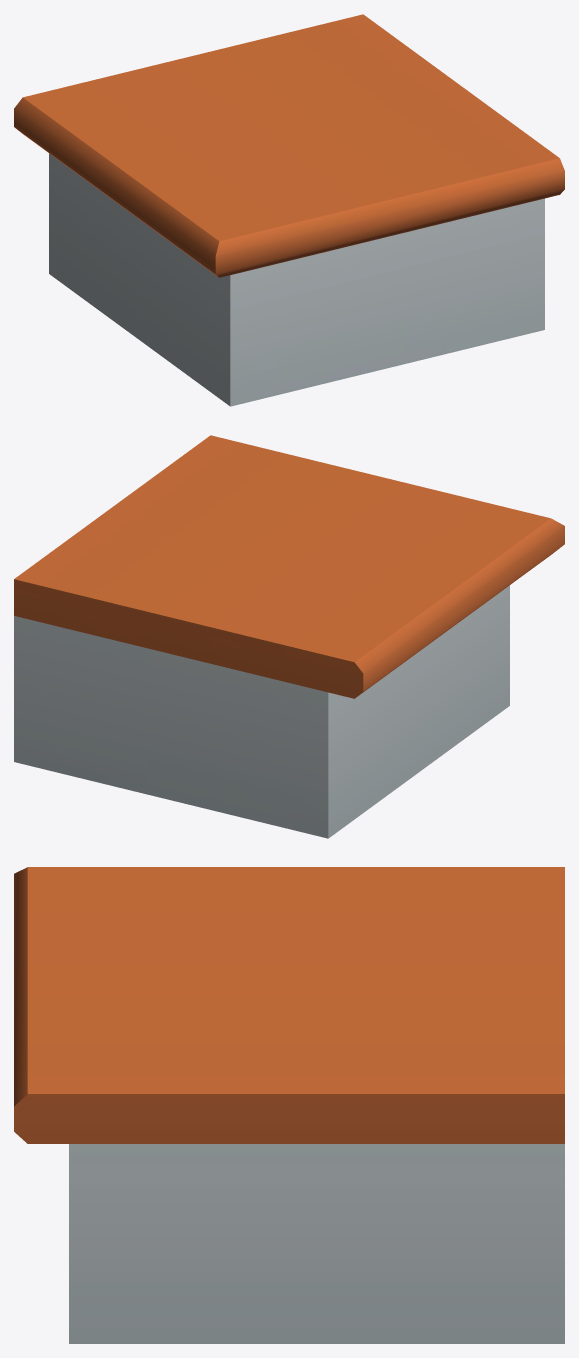
Rendered from kitchencounter-outercorner.glb.
3 views of the same model, one above another, from view 1: azimuth 30°, elevation 25°; view 2: azimuth 150°, elevation 25°; view 3: azimuth 270°, elevation 25° (orthographic). The views are drawn at different scales.
Parts seen in each view (by area): view 1: kitchencounter_outercorner; view 2: kitchencounter_outercorner; view 3: kitchencounter_outercorner.
Part boxes in pixels (x1=…): kitchencounter_outercorner: x1=14, y1=14, x2=564, y2=406; kitchencounter_outercorner: x1=14, y1=435, x2=564, y2=838; kitchencounter_outercorner: x1=14, y1=867, x2=564, y2=1343.
Bounding box in the file's own units: 2 × 1 × 2.
Materials: 1 (1 with a texture image).
